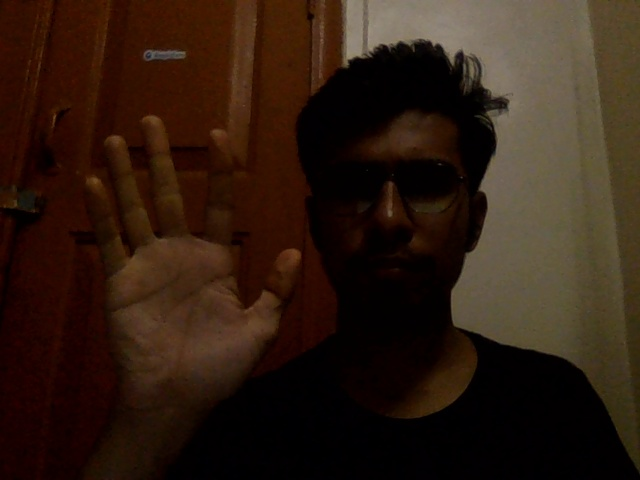Hello: (66, 99, 307, 417)
